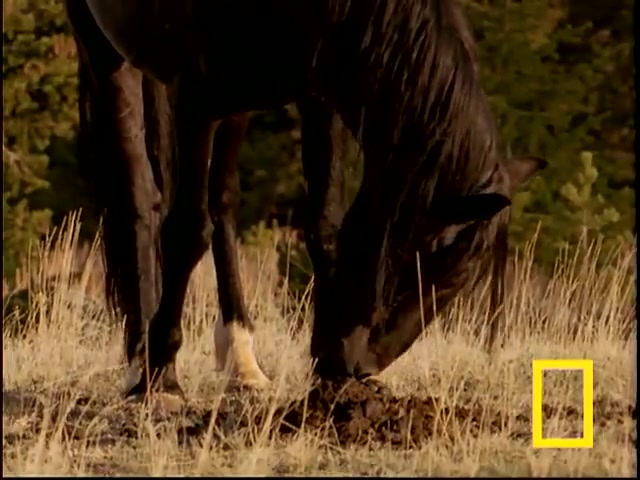horse: (60, 1, 553, 414)
